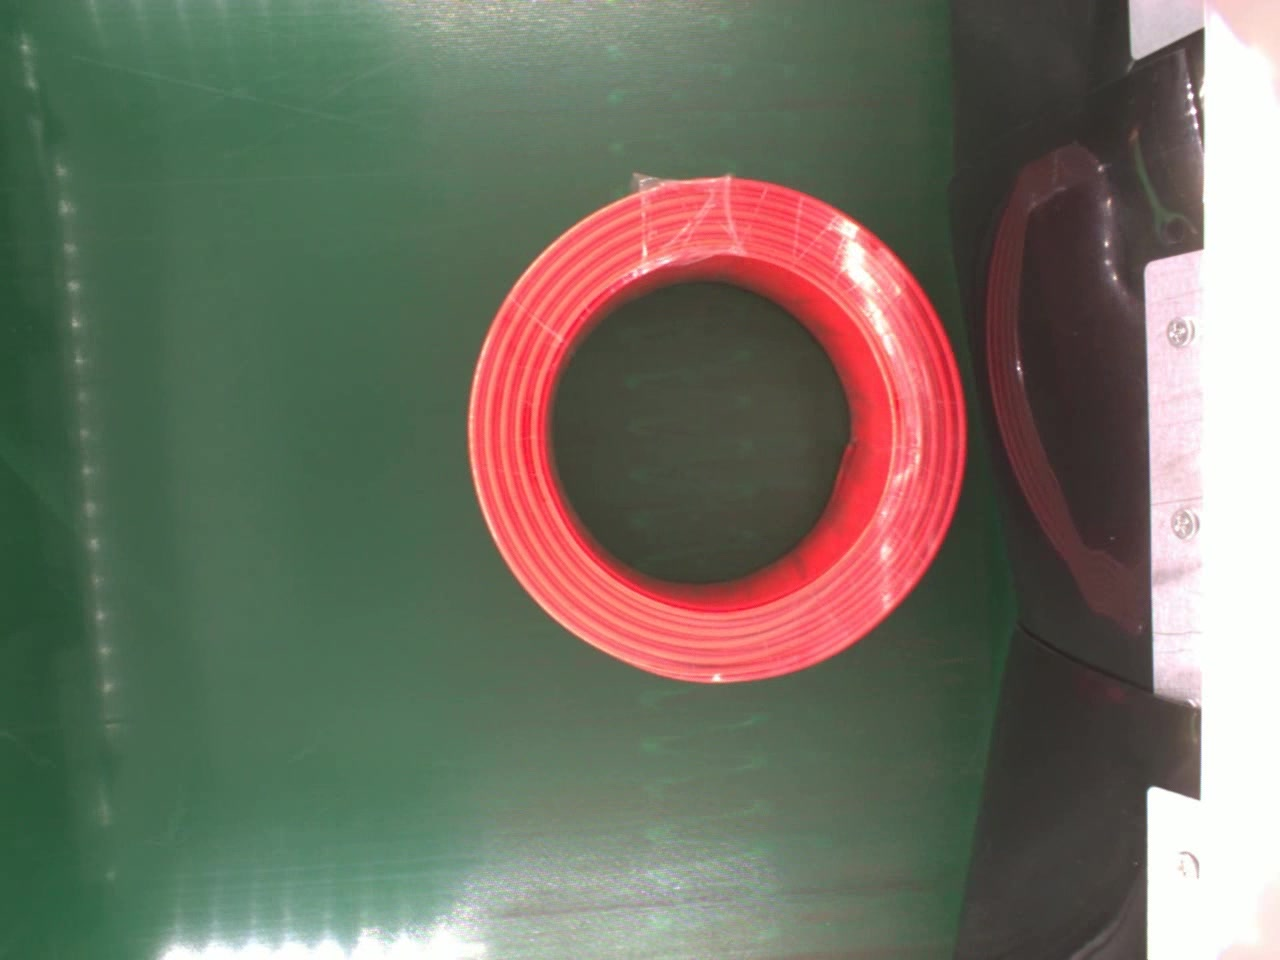red: (462, 173, 978, 697)
